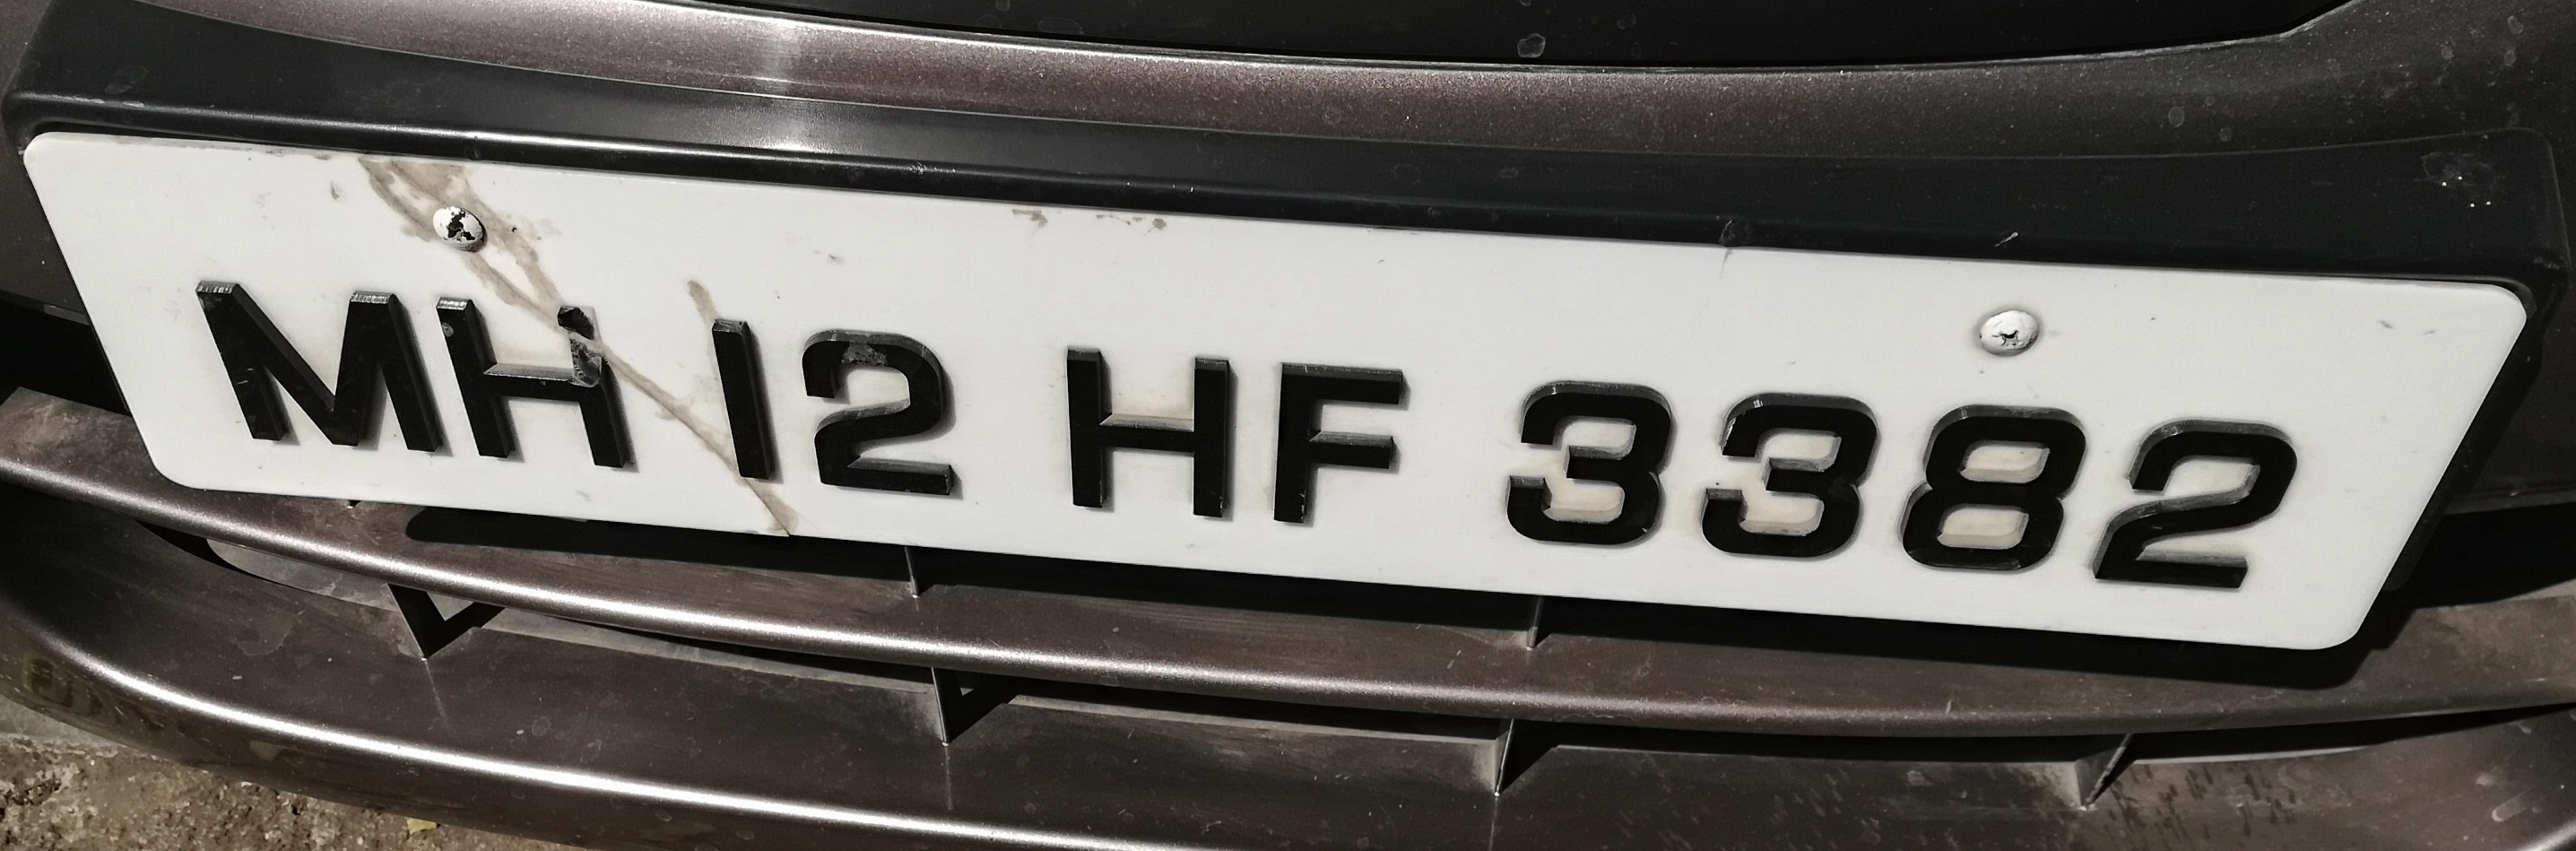numberplate: (21, 123, 2528, 687)
